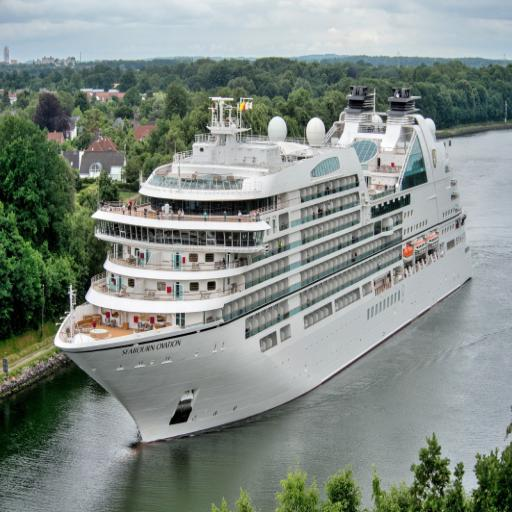cruises: (53, 82, 478, 451)
